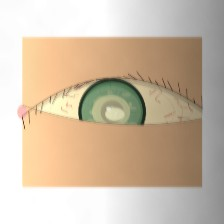corneal_ulcer: (80, 87, 142, 136)
